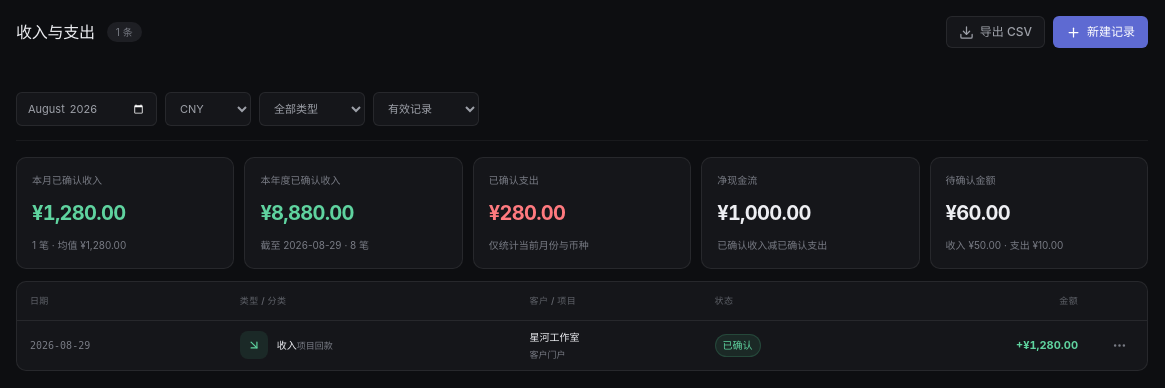
IncomePage › does not relabel placeholder statistics with a newly selected currency
Select "USD" in the dropdown named "币种筛选" at (208, 109), box [165,92,251,126]
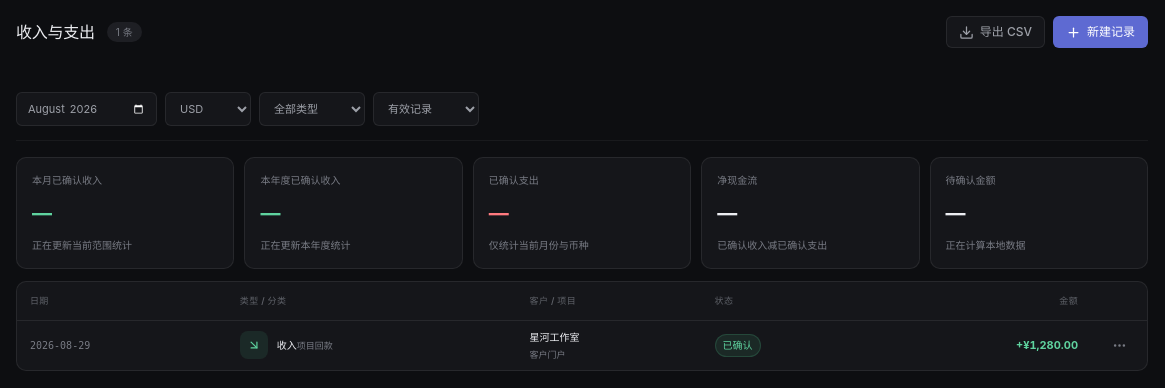
Expected: the text "本月已确认收入" is shown, [32,174,102,186]
Expected: the text "—" below "本月已确认收入" is shown, [32,201,51,225]
Expected: the text "—" below "本年度已确认收入" is shown, [260,201,280,225]
